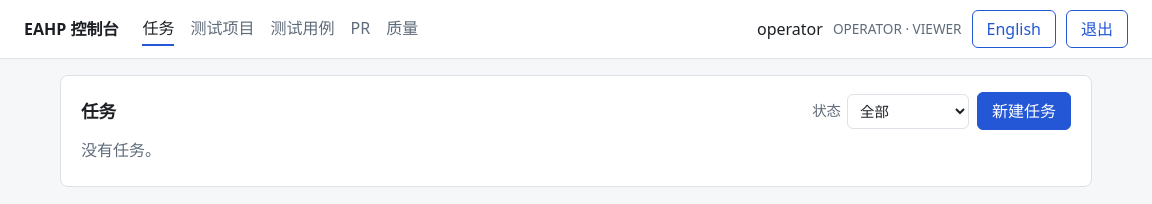
Test: languages › shows the console in Chinese and switches back to English
Expected: the link "测试项目" is shown, [190,12,254,46]
Expected: the link "质量" is shown, [386,12,418,46]
Click the button "English".
click(1014, 29)  # box [972,10,1056,48]
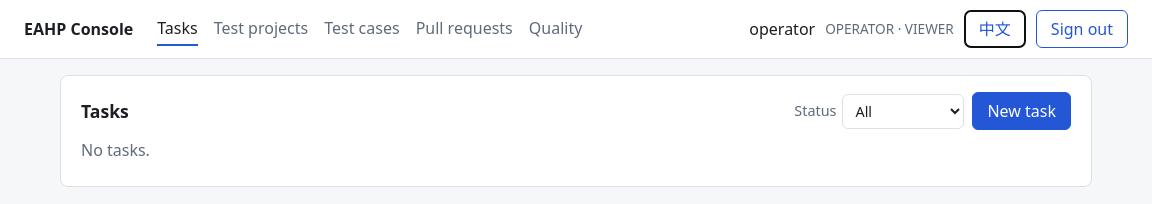
Result: the link "Test projects" is shown at [214,12,308,46]
Click the button "中文".
click(995, 29)  # box [964,10,1026,48]
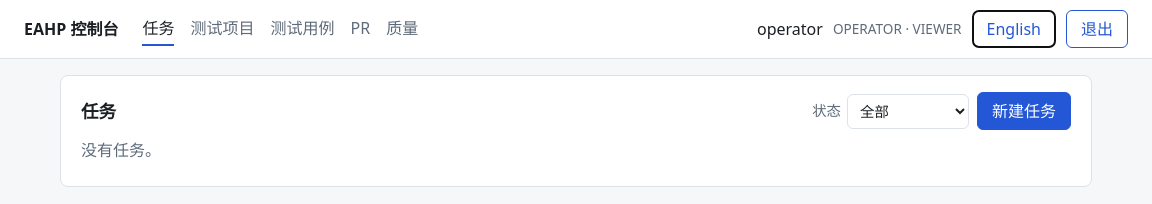
Result: the link "任务" is shown at [142,12,174,46]
